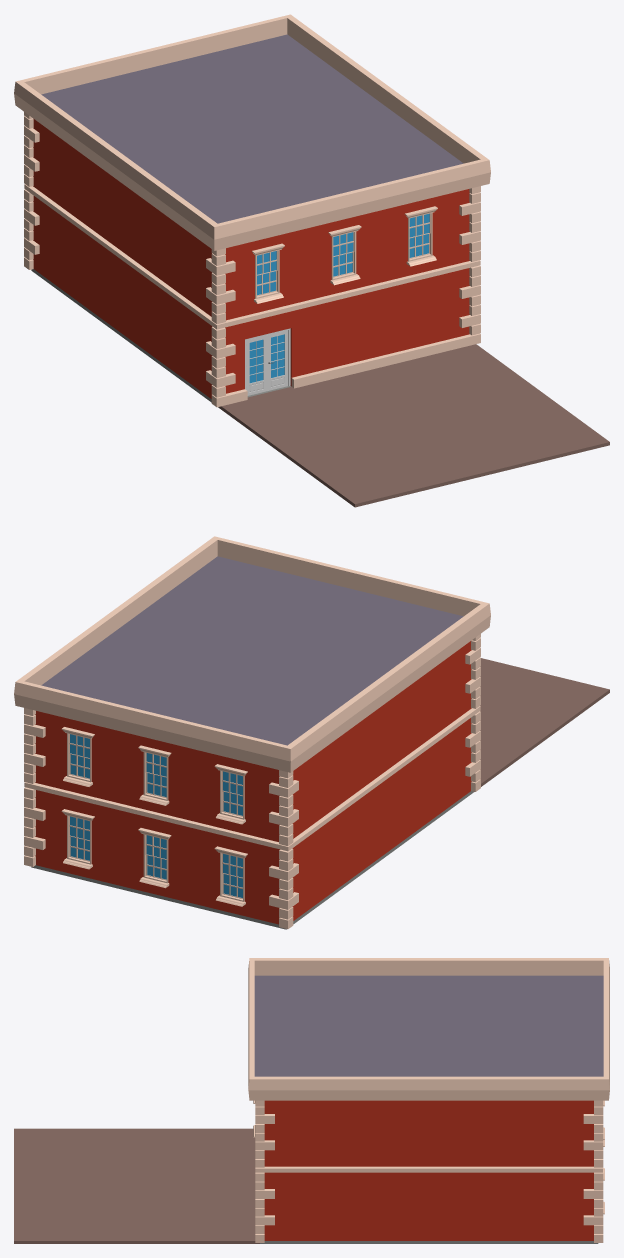
File: Office_Lvl_1.fbx
3 renders of one model, top to bottom at view 1: azimuth 30°, elevation 25°; view 2: azimuth 150°, elevation 25°; view 3: azimuth 270°, elevation 25°, orthographic. The views are drawn at different scales.
Parts seen in each view (by area): view 1: roof, Cube.129, Cube.063, Cube.003, Cube.004, Cube.068, Cube.145, Cube.065, sweethome3d_opening_on_hinge_2_door, sweethome3d_opening_on_hinge_1_door, Cube; view 2: roof, Cube.005, Cube.070, Cube.004, Cube.068, Cube.129, Cube.145, Cube.065, Cube; view 3: roof, Cube.129, Cube.002, Cube.069, Cube.145, Cube.065, Cube.
Part boxes in pixels (x1,y1,x2,y2): roof: (14,14,490,250); Cube.129: (218,344,609,507); Cube.063: (225,268,468,393); Cube.003: (225,189,468,320); Cube.004: (33,196,212,398); Cube.068: (33,118,211,316); Cube.145: (24,112,480,407); Cube.065: (24,184,480,329); sweethome3d_opening_on_hinge_2_door: (245,328,290,395); sweethome3d_opening_on_hinge_1_door: (267,330,288,390); Cube: (31,269,291,407); roof: (14,536,490,772); Cube.005: (36,790,279,924); Cube.070: (36,711,279,841); Cube.004: (292,718,471,920); Cube.068: (292,640,471,838); Cube.129: (474,658,609,791); Cube.145: (24,634,480,929); Cube.065: (24,706,480,851); Cube: (31,791,473,929); roof: (248,958,609,1100); Cube.129: (14,1128,259,1243); Cube.002: (264,1172,593,1240); Cube.069: (264,1100,593,1166); Cube.145: (255,1100,603,1242); Cube.065: (255,1166,602,1172); Cube: (260,1241,598,1243).
Size of the model in its own units: 2064 by 1334 by 4263.
